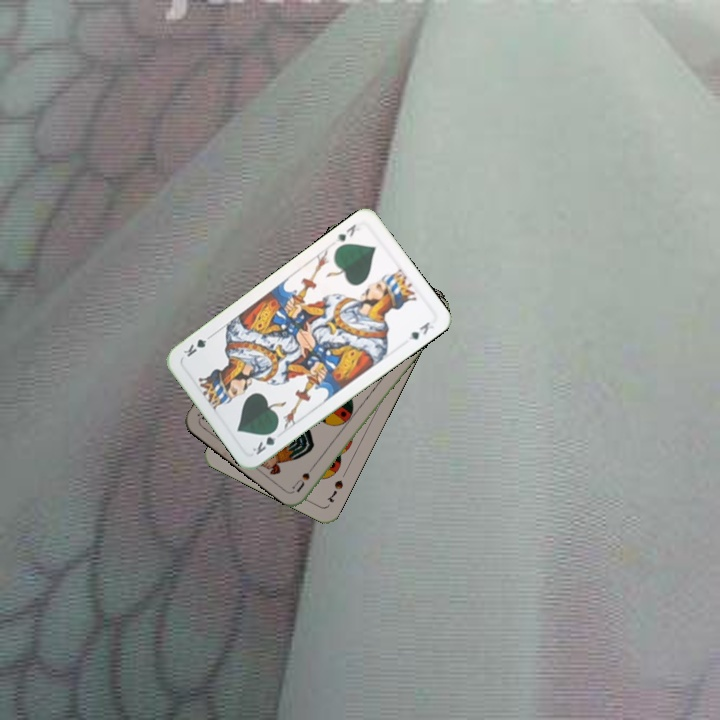GK: (248, 424, 280, 457), (331, 220, 363, 245)
S7: (323, 475, 346, 505)
SU: (289, 458, 320, 495)
